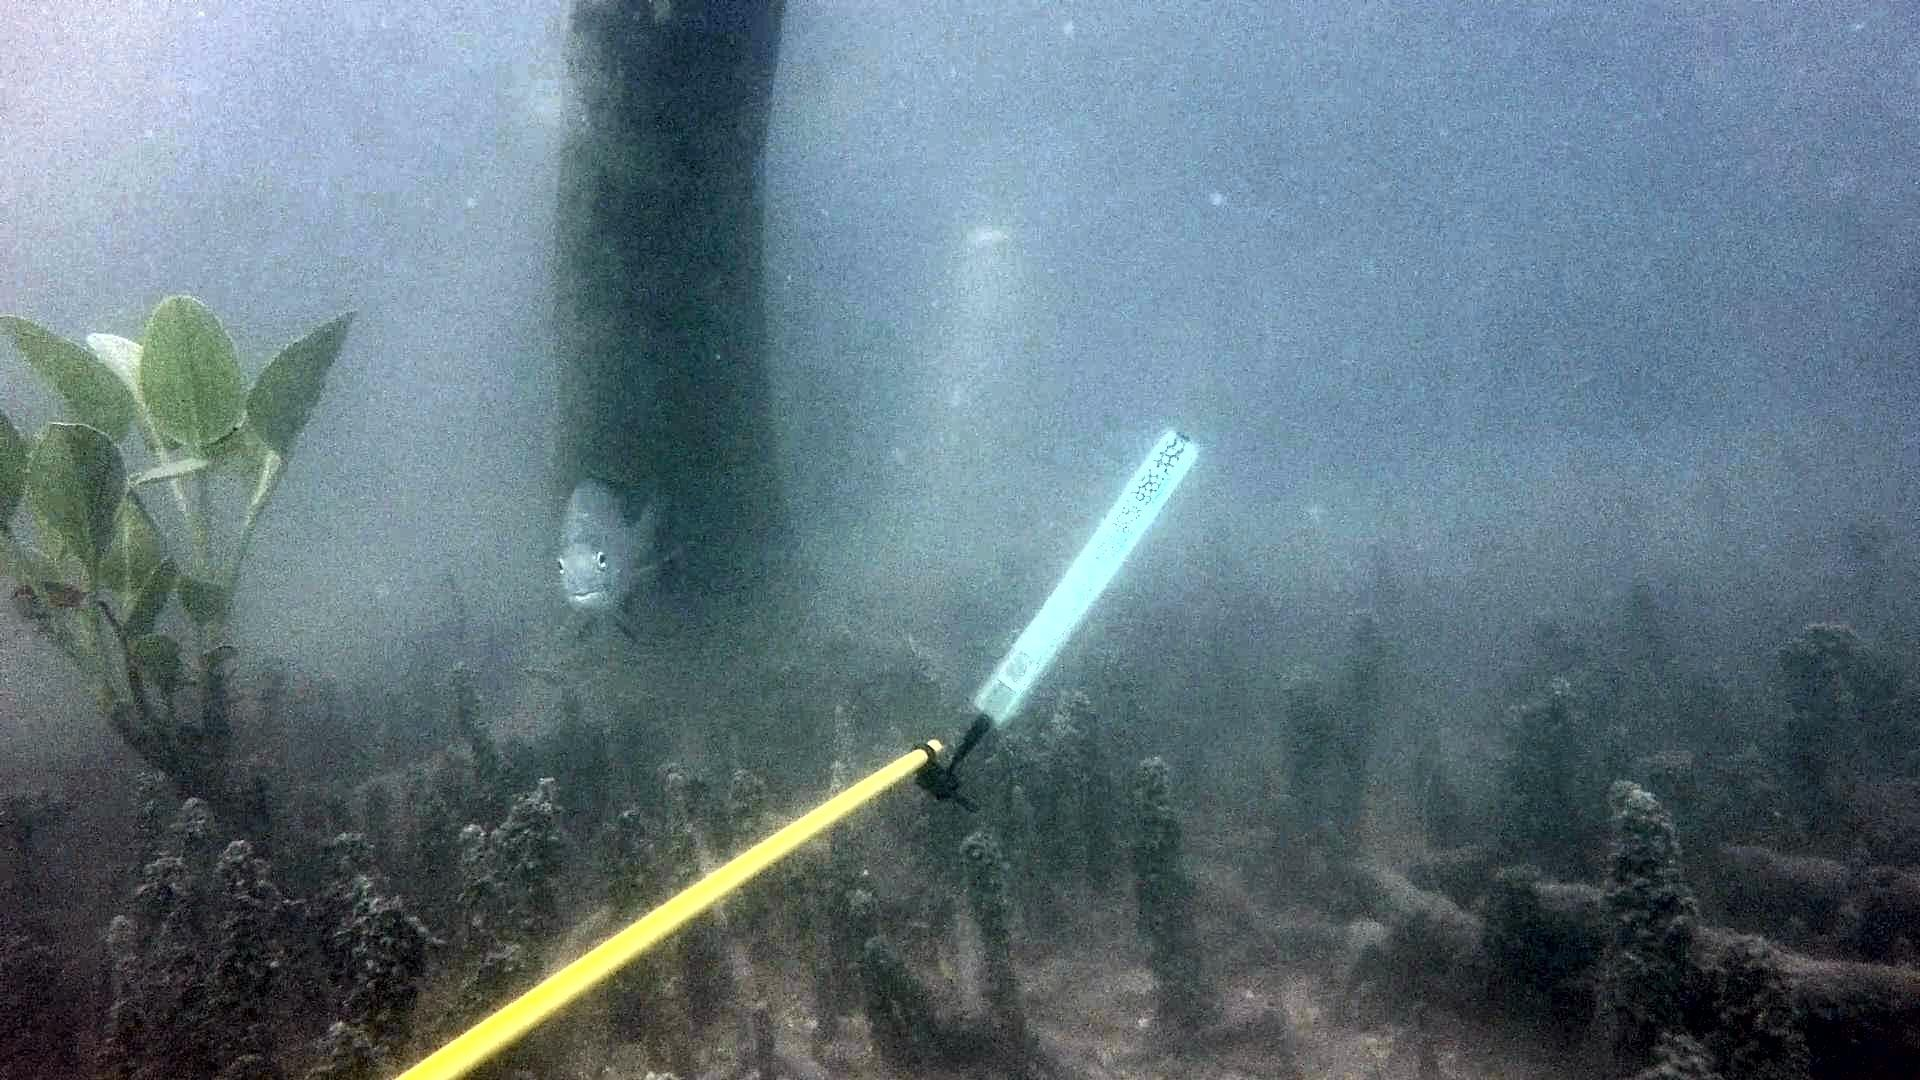acanthopagrus palmaris: (541, 455, 688, 649)
